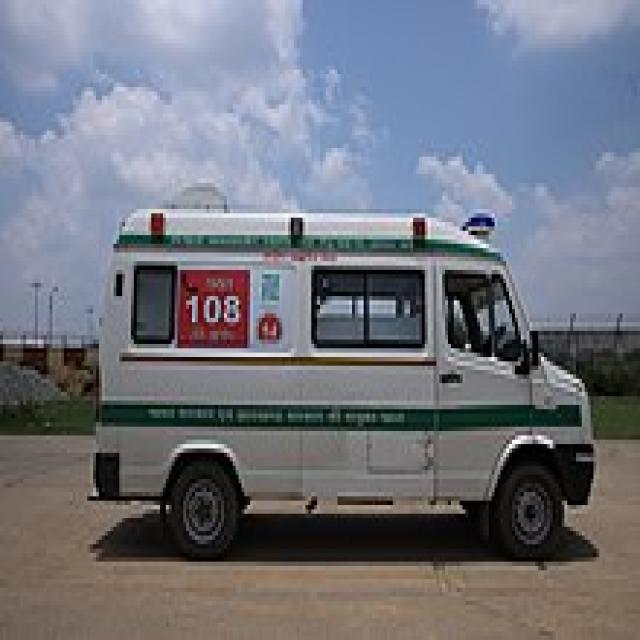ambulance: (92, 200, 598, 559)
